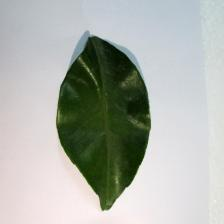healthy: (57, 36, 152, 211)
